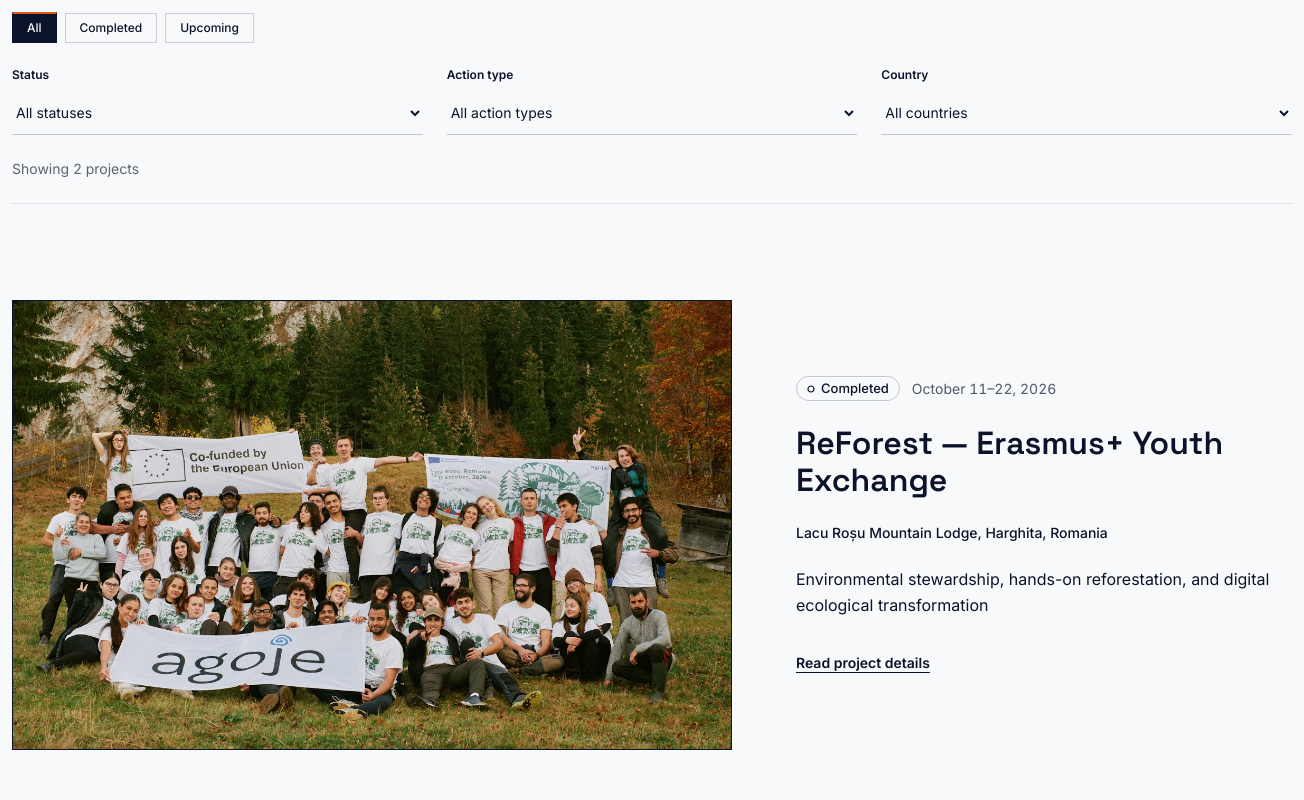
Test: Projects Partition Components › ProjectsArchive › shows empty state and allows resetting filters
Select "Romania" in the dropdown labelled "Country": (1087, 113) [881, 91, 1292, 135]
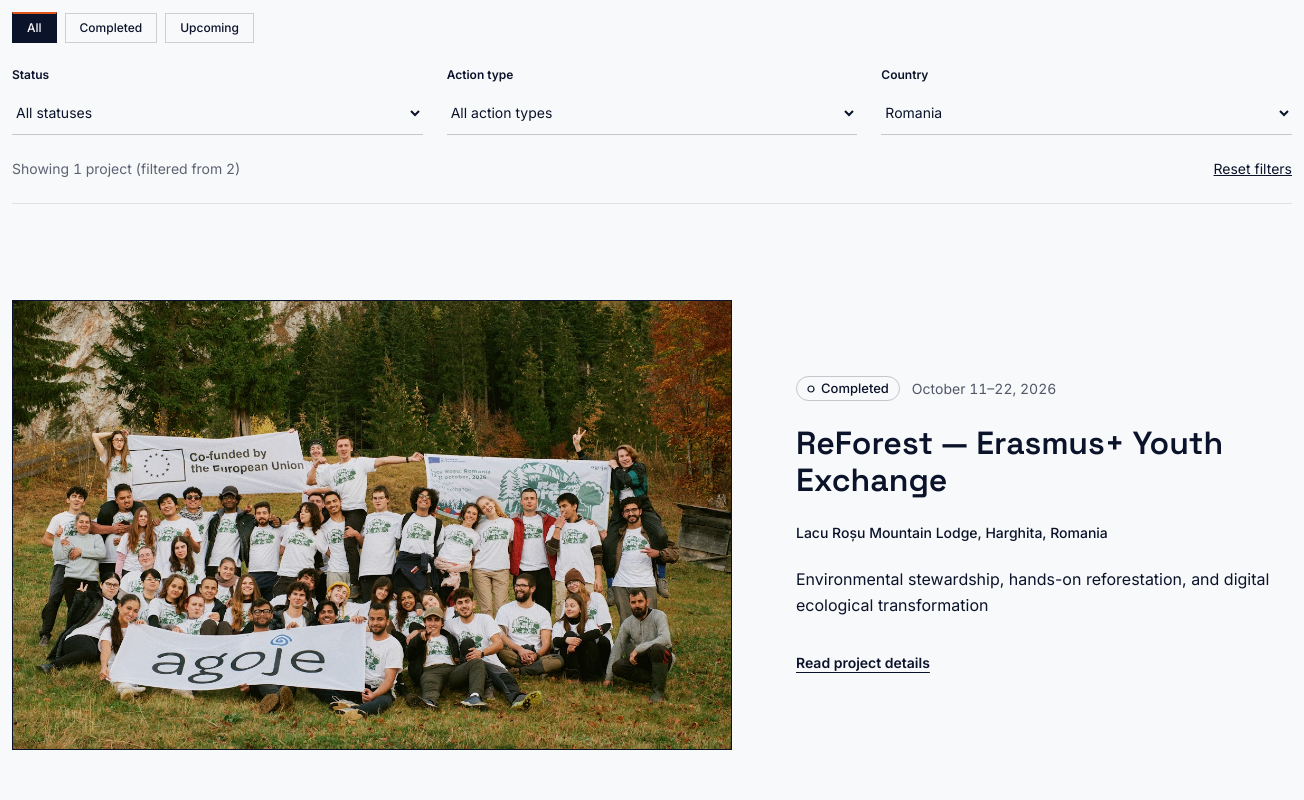
Select "Upcoming" in the dropdown labelled "Status": (217, 113) [12, 91, 423, 135]
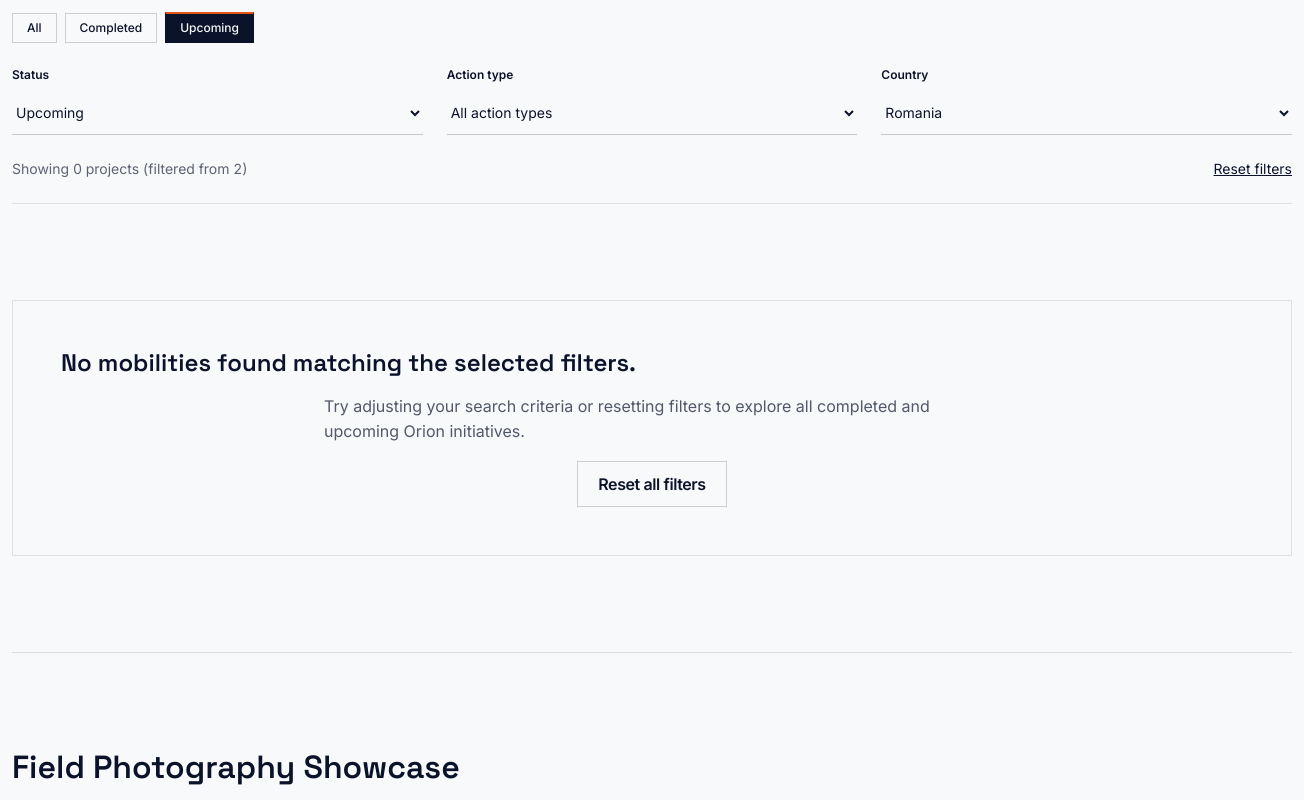
Check: the text "No mobilities found matching the selected filters." is shown, box [61, 347, 636, 378]
Click the button "Reset all filters": click(652, 484) [577, 461, 727, 507]
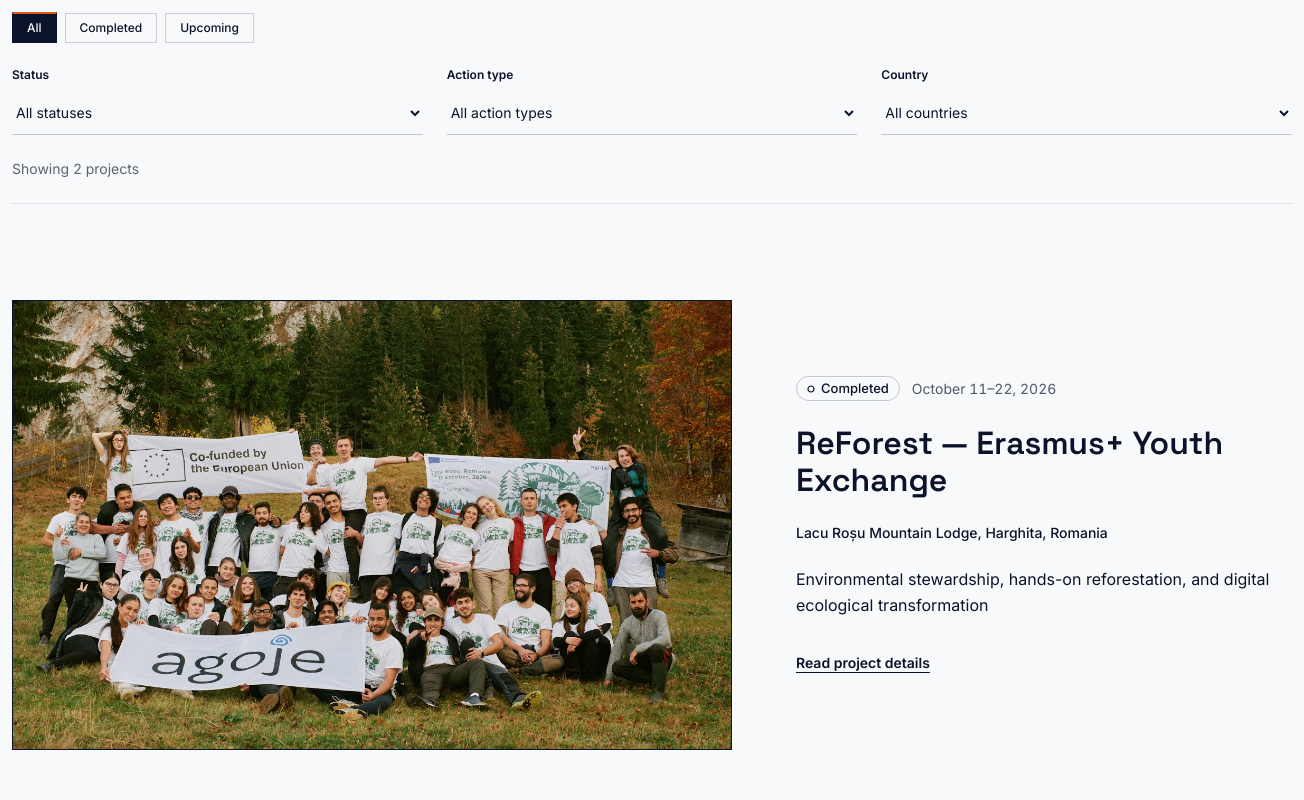
Check: the heading "ReForest — Erasmus+ Youth Exchange" is shown, box [796, 425, 1292, 499]
Check: the text "Showing 2 projects" is shown, box [12, 159, 139, 179]
